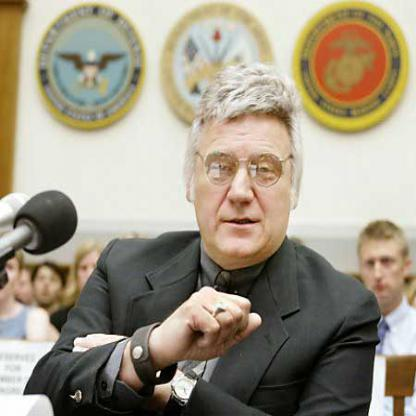face: (192, 83, 298, 262), (361, 229, 406, 304), (78, 248, 108, 296), (35, 263, 62, 306), (9, 269, 36, 307)
